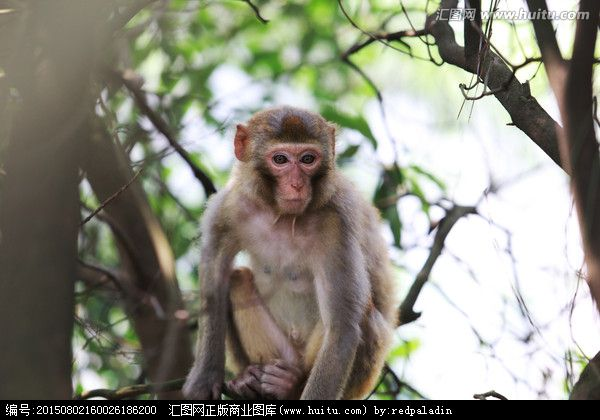monkey: (142, 70, 405, 400)
